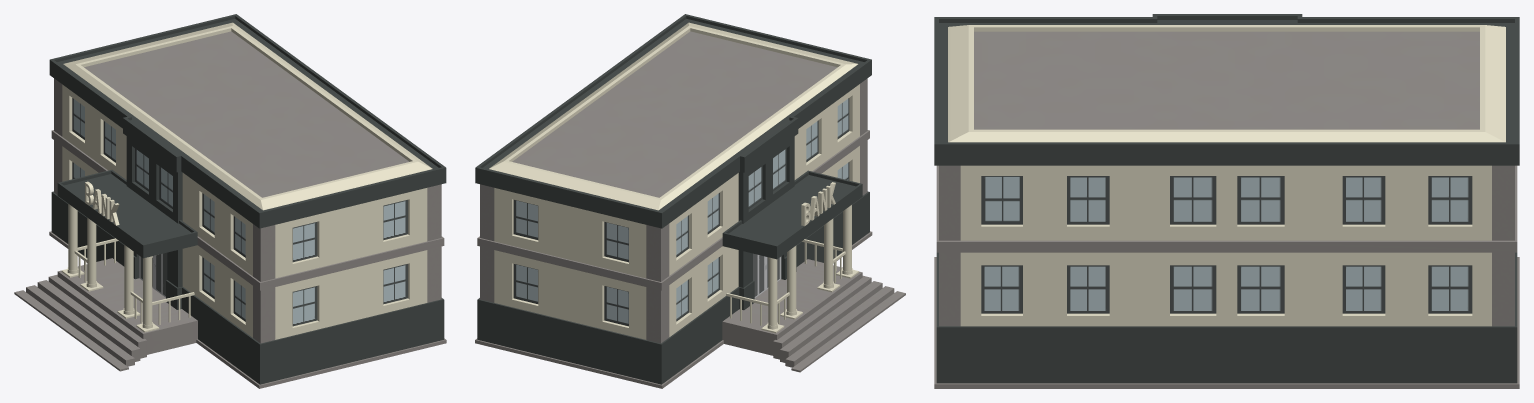
Rendered from bank.fbx.
3 views of the same model, side by side, from view 1: azimuth 30°, elevation 25°; view 2: azimuth 150°, elevation 25°; view 3: azimuth 270°, elevation 25° (orthographic). The views are drawn at different scales.
Parts seen in each view (by area): view 1: sptp_building_30; view 2: sptp_building_30; view 3: sptp_building_30.
Boxes of the visible parts, x1,y1,x2,y2 form: sptp_building_30: [14, 14, 446, 388]; sptp_building_30: [475, 14, 905, 388]; sptp_building_30: [934, 14, 1519, 388].
Bounding box in the file's own units: 1222 × 754 × 1625.
Materials: 1 (1 with a texture image).
